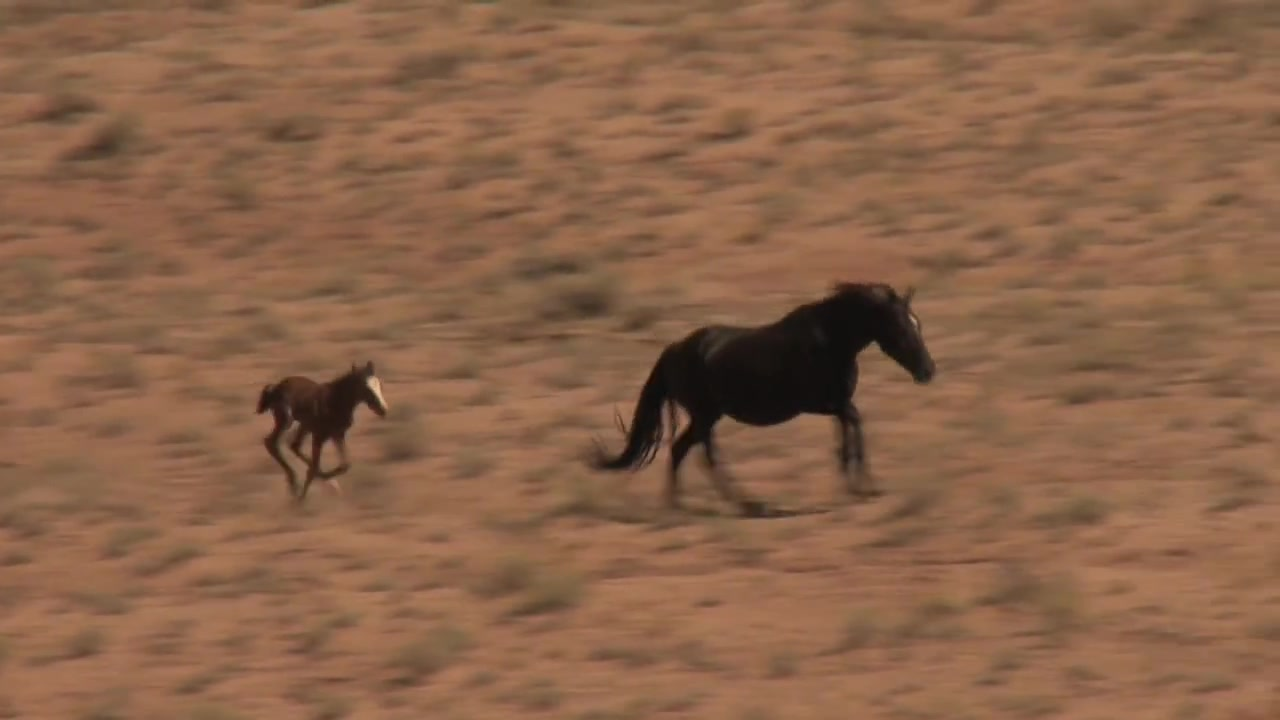horse: (583, 280, 942, 518), (251, 360, 394, 508)
